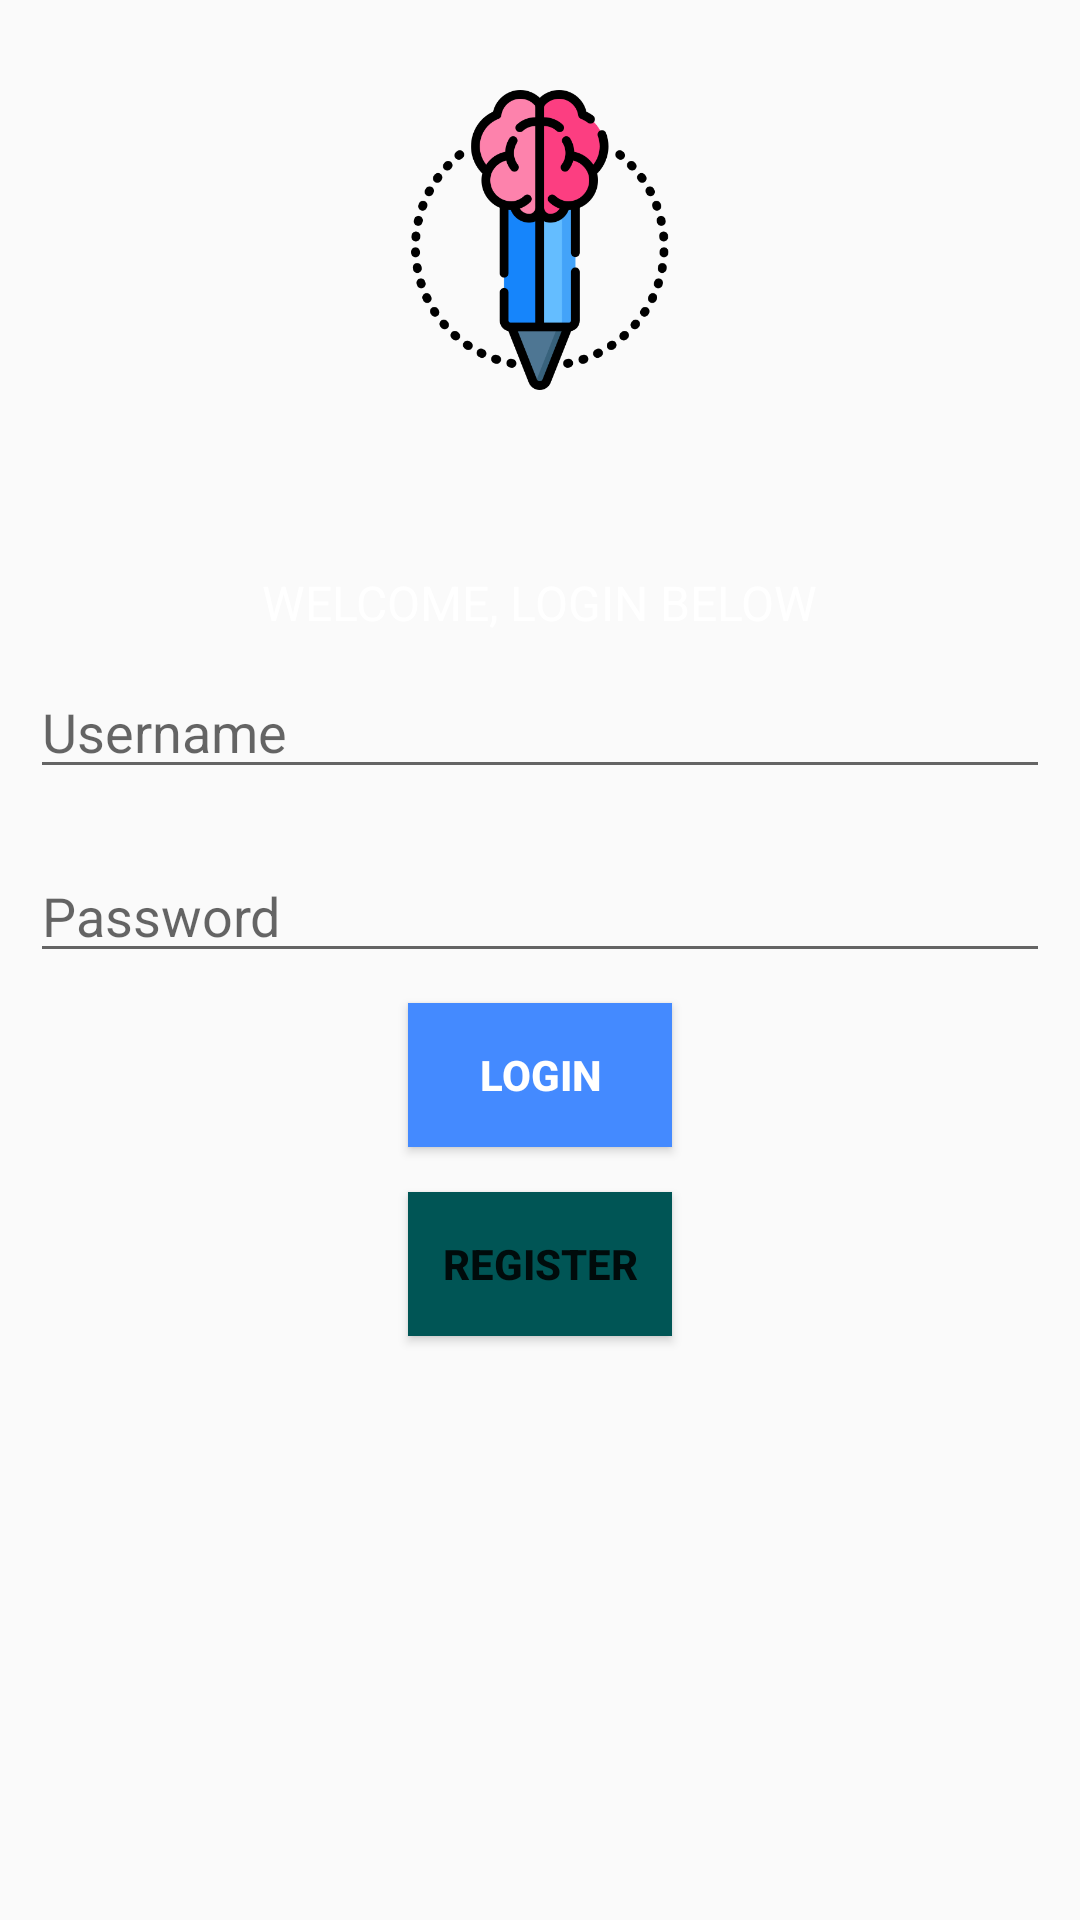

Icons on this 1080px x 1920px Android screen, each with the point to tap as point (x, y):
pencil: point (540, 240)
